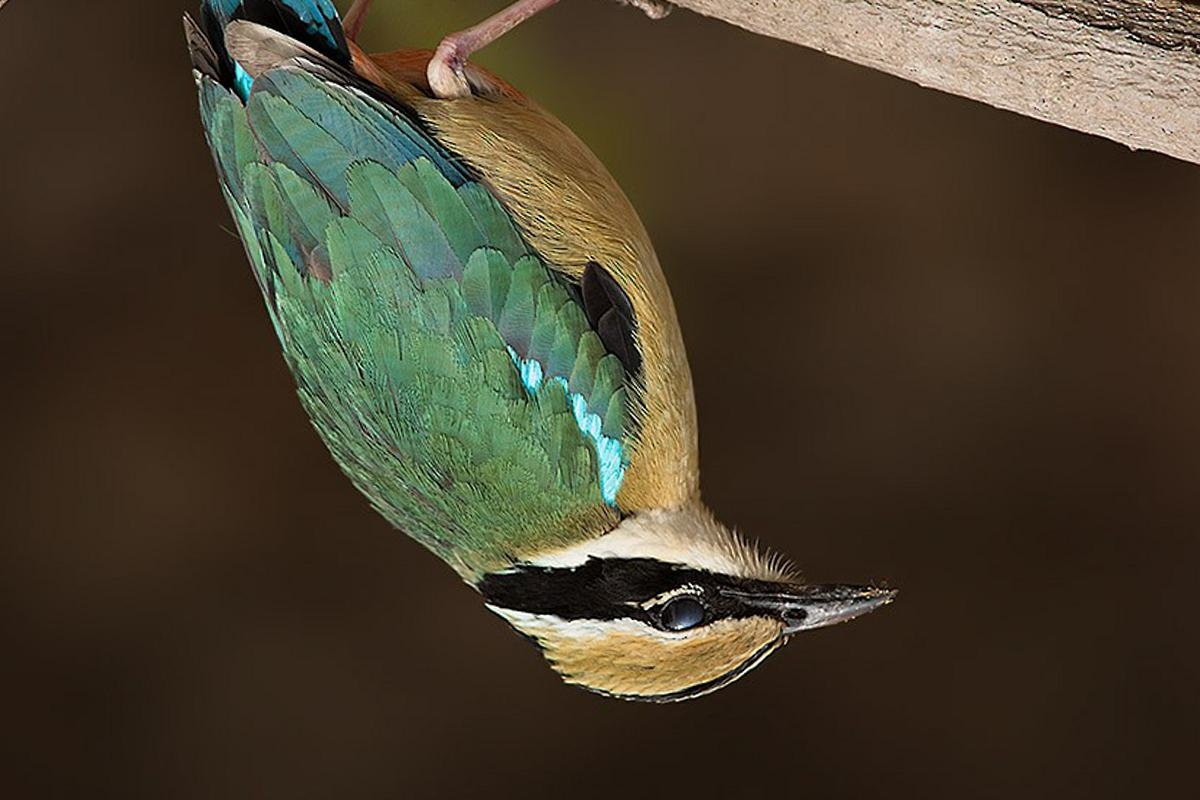pitta: (115, 1, 958, 712)
